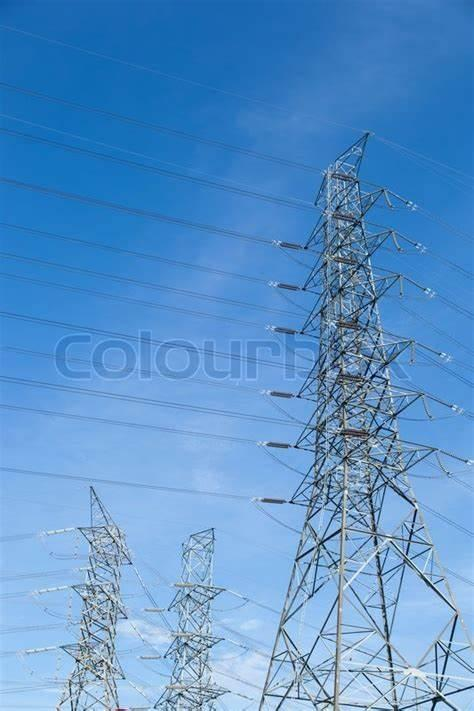power_tower: (247, 130, 474, 711), (143, 520, 239, 711), (55, 479, 134, 711)
